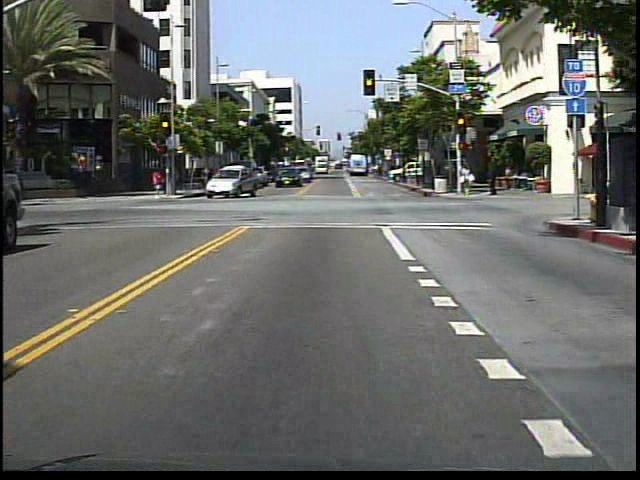person: (455, 158, 476, 198), (485, 160, 500, 199), (153, 166, 168, 197)
